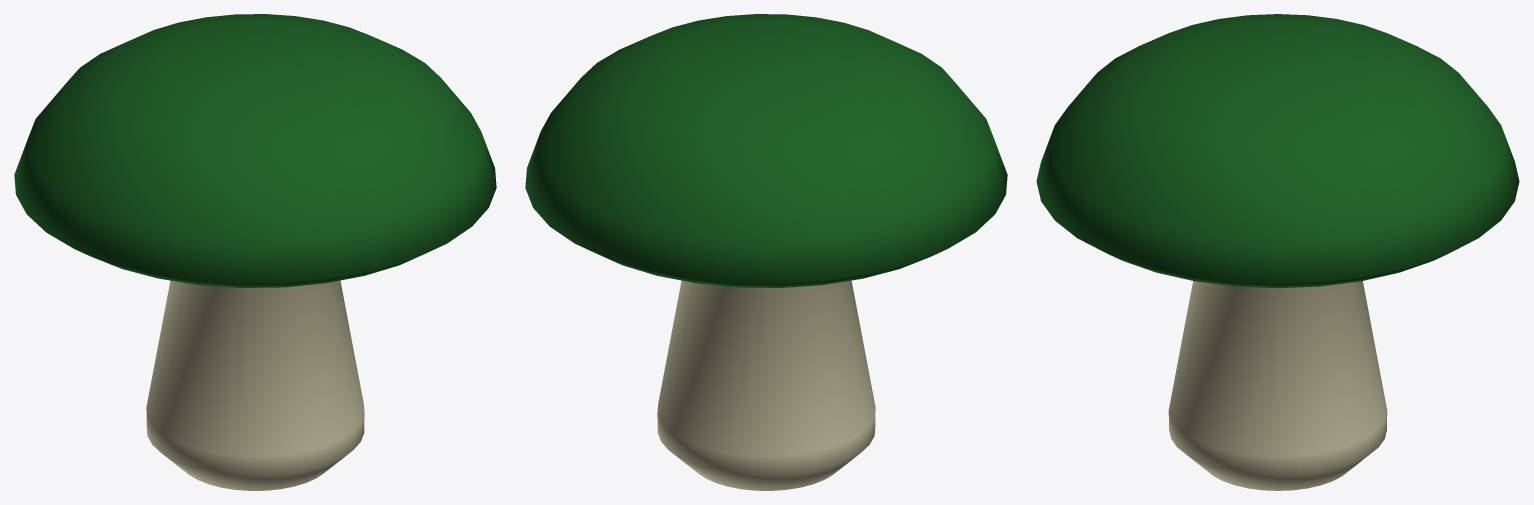
File: green_shroom.fbx
3 views of the same model, side by side, from view 1: azimuth 30°, elevation 25°; view 2: azimuth 150°, elevation 25°; view 3: azimuth 270°, elevation 25° (orthographic).
Visible parts, largest first — view 1: Green_Shroom; view 2: Green_Shroom; view 3: Green_Shroom.
Boxes of the visible parts, x1,y1,x2,y2 form: Green_Shroom: (14,14,496,490); Green_Shroom: (525,14,1007,490); Green_Shroom: (1036,14,1519,490).
Size of the model in its own units: 299 by 285 by 299.
